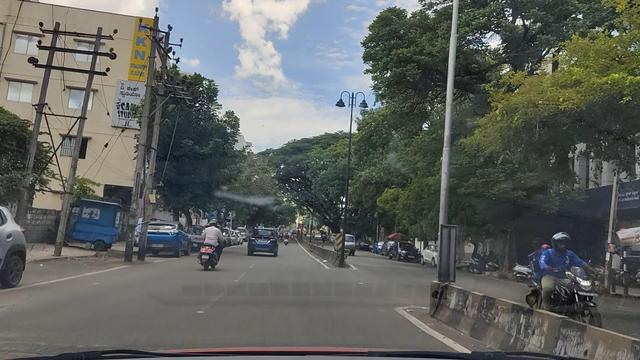LMV: (202, 217, 226, 275), (256, 231, 280, 255)
